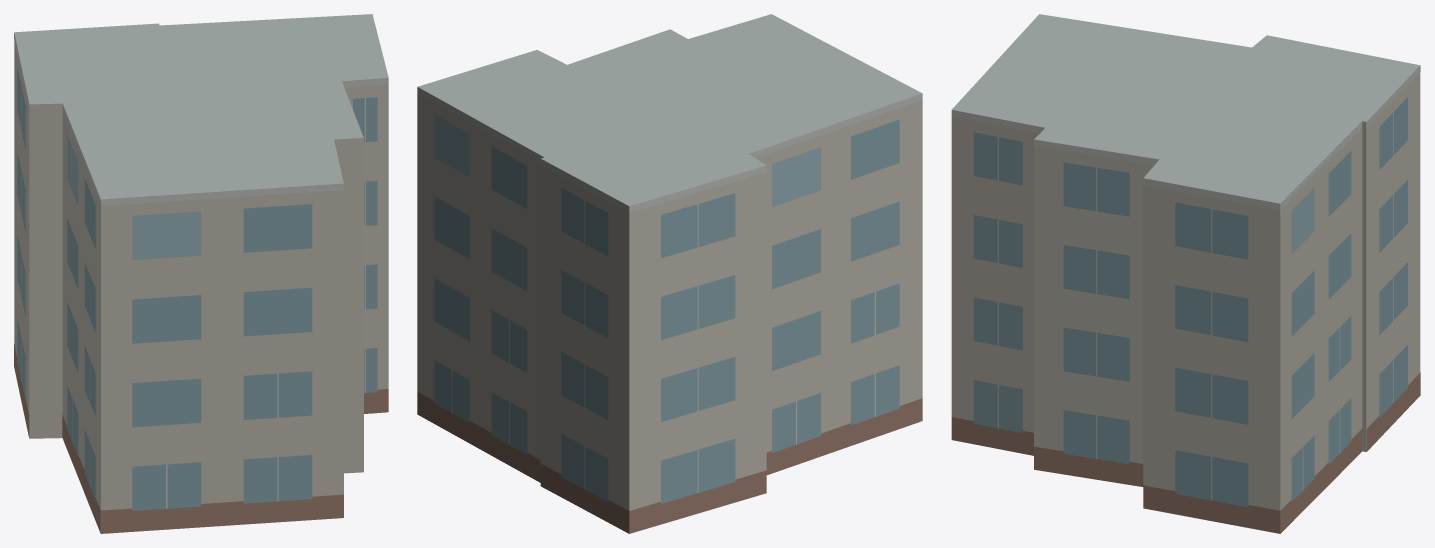
File: survey-upis-32830386.glb
The picture shows the model from 3 angles, left to right: view 1: azimuth 30°, elevation 25°; view 2: azimuth 150°, elevation 25°; view 3: azimuth 270°, elevation 25°; orthographic projection. The views are drawn at different scales.
Visible parts, largest first — view 1: survey-upis-32830386.tmp; view 2: survey-upis-32830386.tmp; view 3: survey-upis-32830386.tmp.
Part boxes in pixels (box(x1,y1,x2,y2)): survey-upis-32830386.tmp: box(14, 14, 388, 533); survey-upis-32830386.tmp: box(417, 14, 922, 533); survey-upis-32830386.tmp: box(951, 14, 1420, 533).
Size of the model in its own units: 15.04 by 12.2 by 15.71.
